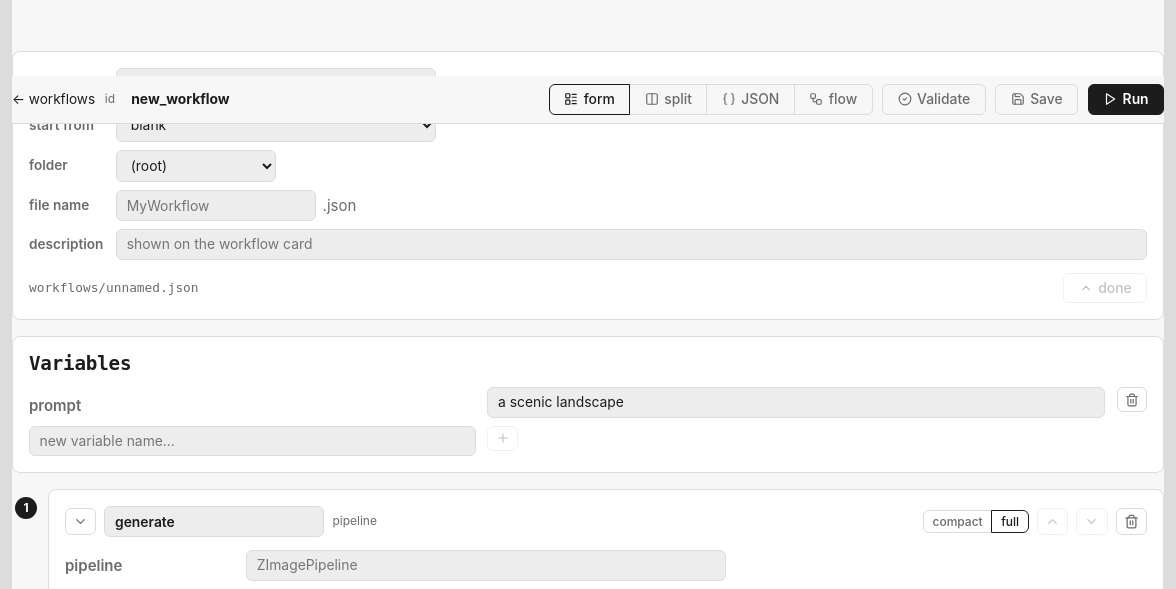
Test case: EditorPage validation plan › shows what a run will do under a valid verdict
Expected: the field named "workflow id" is shown, [121,84,364,115]
Click the button "Validate" at (934, 99), box [882,84,986,115]
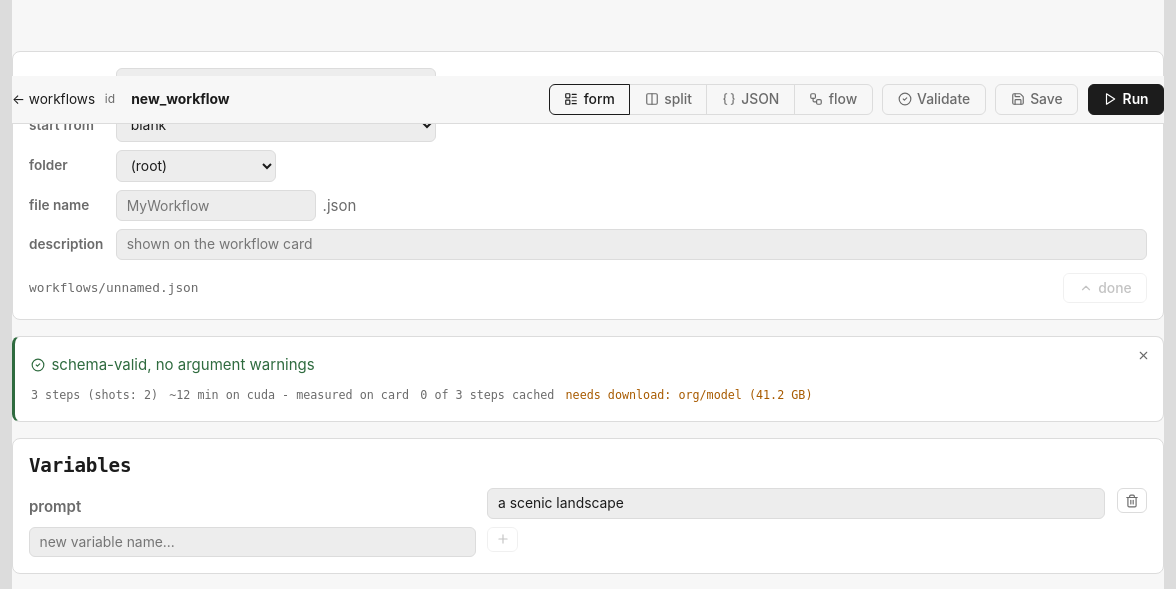
Expected: the list named "what a run will do" is shown, [31,388,812,402]
Expected: the list named "what a run will do" shows "3 steps (shots: 2)", [31,388,158,402]
Expected: the list named "what a run will do" shows "~12 min on cuda", [169,388,409,402]
